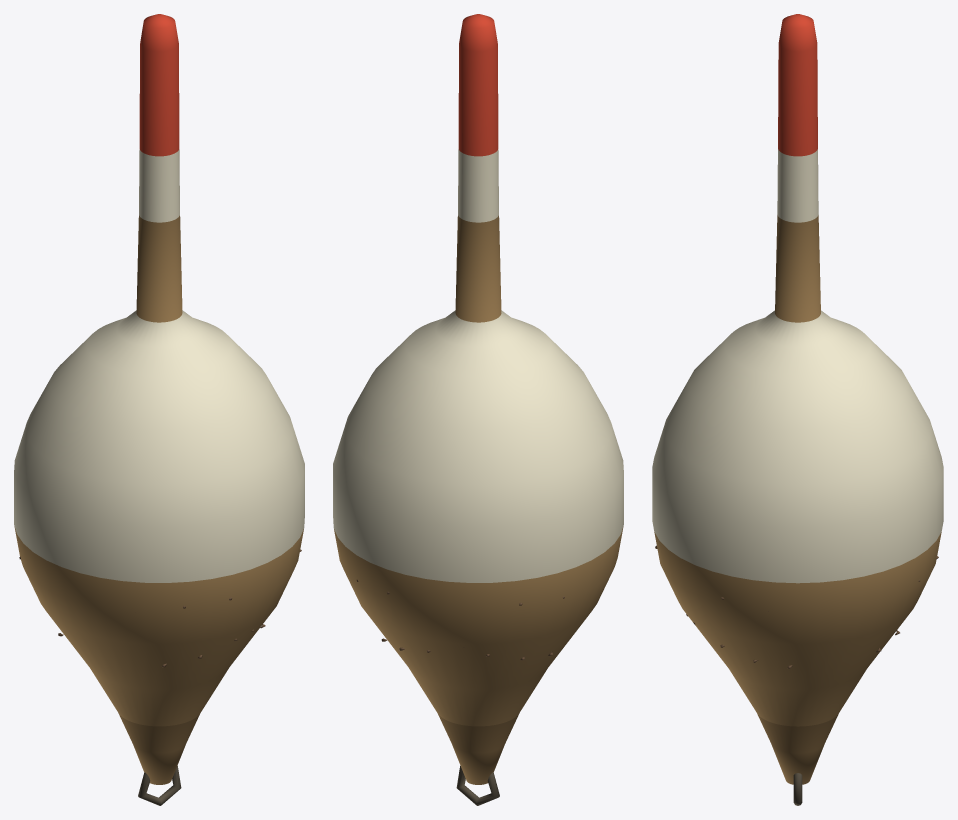
File: stream-tackle.glb
3 views of the same model, side by side, from view 1: azimuth 30°, elevation 25°; view 2: azimuth 150°, elevation 25°; view 3: azimuth 270°, elevation 25° (orthographic).
Visible parts, largest first — view 1: Turned quill float; view 2: Turned quill float; view 3: Turned quill float.
Boxes of the visible parts, left/top/right/bottom form: Turned quill float: left=14, top=14, right=304, bottom=805; Turned quill float: left=333, top=14, right=623, bottom=805; Turned quill float: left=652, top=14, right=943, bottom=805.
Size of the model in its own units: 0.048 by 0.1437 by 0.048.
